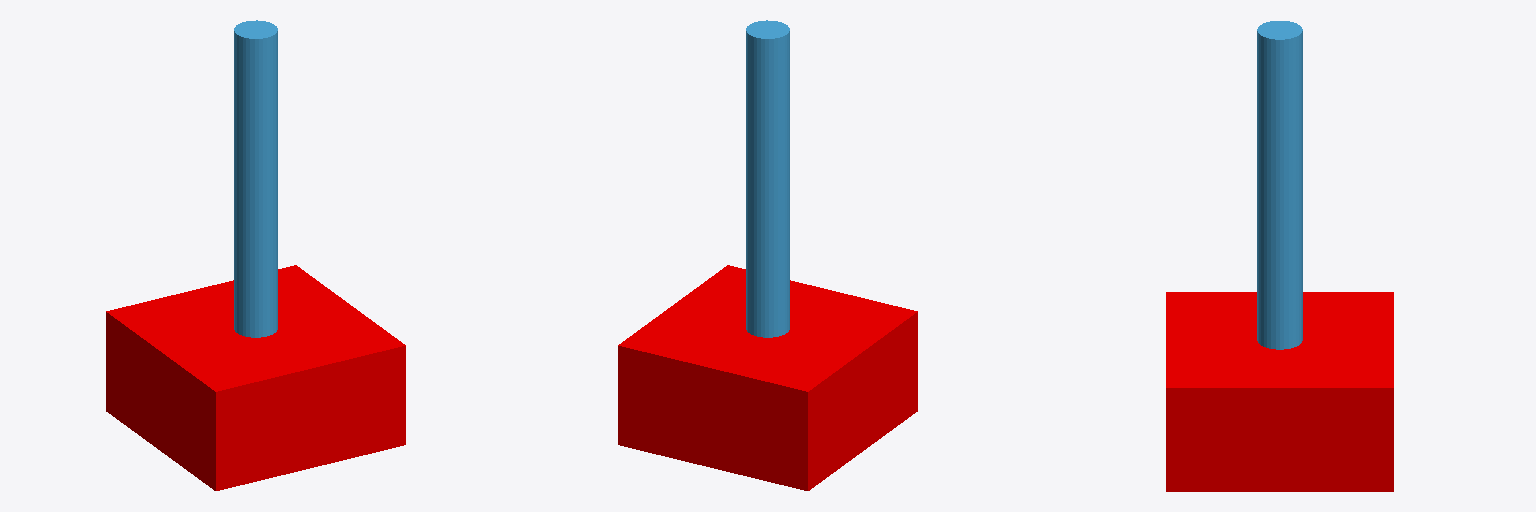
The robot description file, URDF, robot "two_link":
<?xml version="1.0"?>
<robot name="two_link">
  <material name="red">
    <color rgba="1 0 0 1"/>
  </material>

  <link name="base_link">
    <inertial>
      <origin xyz="0 0 0.05" rpy="0 0 0"/>
      <mass value="2.0"/>
      <inertia ixx="0.01" ixy="0" ixz="0" iyy="0.01" iyz="0" izz="0.005"/>
    </inertial>
    <visual>
      <origin xyz="0 0 0.05" rpy="0 0 0"/>
      <geometry>
        <box size="0.2 0.2 0.1"/>
      </geometry>
      <material name="red"/>
    </visual>
    <collision>
      <origin xyz="0 0 0.05" rpy="0 0 0"/>
      <geometry>
        <box size="0.2 0.2 0.1"/>
      </geometry>
    </collision>
  </link>

  <link name="arm_link">
    <inertial>
      <mass value="0.5"/>
      <inertia ixx="0.001" ixy="0" ixz="0" iyy="0.001" iyz="0" izz="0.0005"/>
    </inertial>
    <visual>
      <origin xyz="0 0 0.15" rpy="0 0 0"/>
      <geometry>
        <cylinder radius="0.02" length="0.3"/>
      </geometry>
    </visual>
    <collision>
      <origin xyz="0 0 0.15" rpy="0 0 0"/>
      <geometry>
        <cylinder radius="0.02" length="0.3"/>
      </geometry>
    </collision>
  </link>

  <link name="tip_frame"/>

  <joint name="shoulder" type="revolute">
    <parent link="base_link"/>
    <child link="arm_link"/>
    <origin xyz="0 0 0.1" rpy="0 0 0"/>
    <axis xyz="0 1 0"/>
    <limit lower="-1.57" upper="1.57" effort="10.0" velocity="2.0"/>
    <dynamics damping="0.1" friction="0.05"/>
  </joint>

  <joint name="tip_fixed" type="fixed">
    <parent link="arm_link"/>
    <child link="tip_frame"/>
    <origin xyz="0 0 0.3" rpy="0 0 0"/>
  </joint>
</robot>

--- Render facts (derived) ---
Views: 3 orthographic renders of the robot side by side, from view 1: azimuth 30°, elevation 25°; view 2: azimuth 150°, elevation 25°; view 3: azimuth 270°, elevation 25°.
Robot: two_link — 3 links, 2 joints (1 revolute, 1 fixed); root link base_link; default pose: all joints at 0.
Visible links, largest first — view 1: base_link, arm_link; view 2: base_link, arm_link; view 3: base_link, arm_link.
Link boxes in pixels (x1,y1,x2,y2): base_link: (106,265,405,490); arm_link: (234,20,277,337); base_link: (618,265,917,490); arm_link: (746,20,789,337); base_link: (1166,292,1393,491); arm_link: (1257,21,1302,349).
Size in the robot's own frame: 0.2 by 0.2 by 0.4 metres.
Geometry: primitives only (box / cylinder / sphere), no mesh files.
